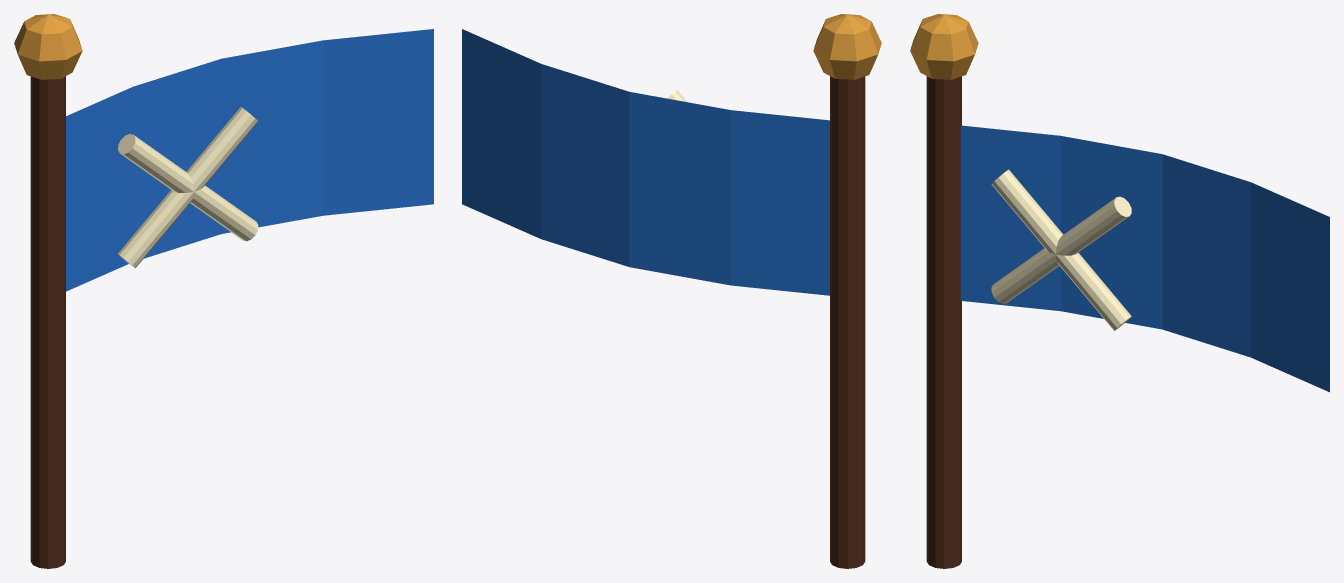
The model's file is flag_clash.glb.
3 views of the same model, side by side, from view 1: azimuth 30°, elevation 25°; view 2: azimuth 150°, elevation 25°; view 3: azimuth 330°, elevation 25° (orthographic).
Parts seen in each view (by area): view 1: flag_clash_Surface; view 2: flag_clash_Surface; view 3: flag_clash_Surface.
Part boxes in pixels (x1,y1,x2,y2): flag_clash_Surface: (14, 14, 433, 568); flag_clash_Surface: (462, 14, 881, 568); flag_clash_Surface: (910, 14, 1329, 568).
Size of the model in its own units: 0.745 by 0.935 by 0.125.
Materials: 1 (1 with a texture image).
